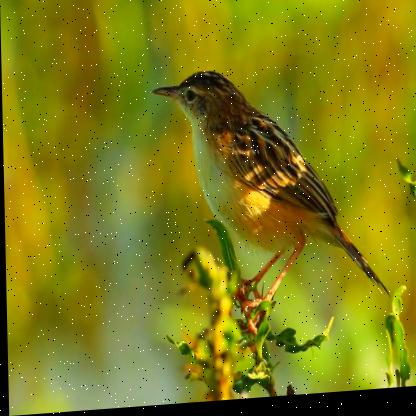Burung: (148, 64, 388, 316)
